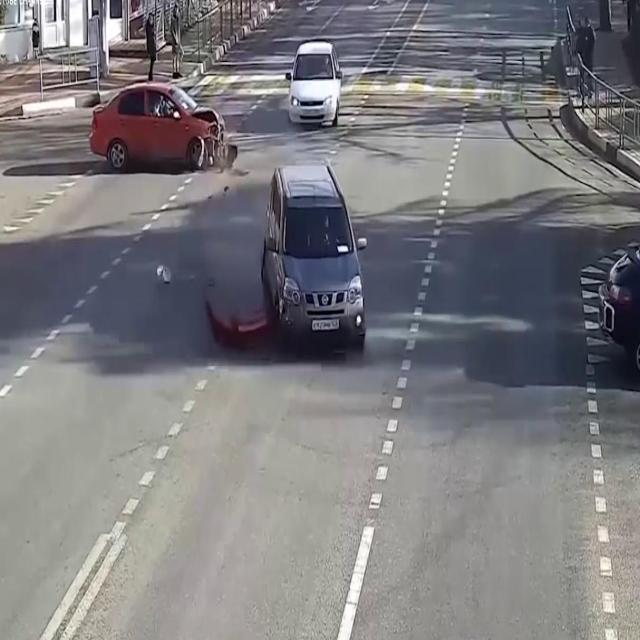accident: (195, 166, 371, 374), (78, 65, 243, 173)
